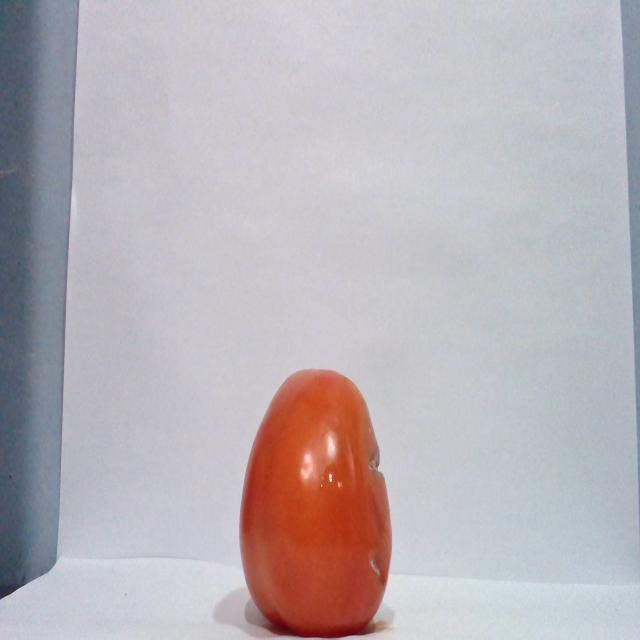Red: (237, 367, 393, 636)
